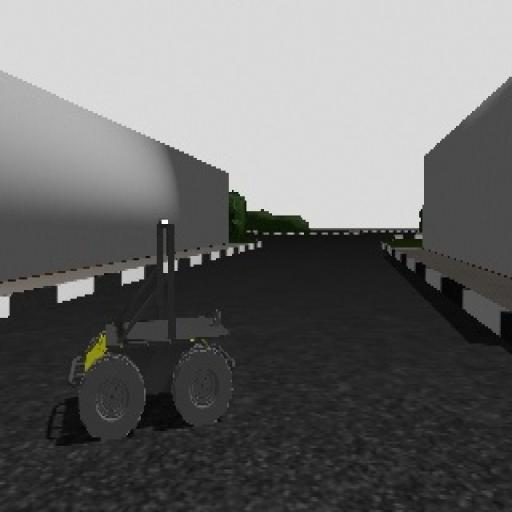huskya200: (50, 212, 252, 443)
